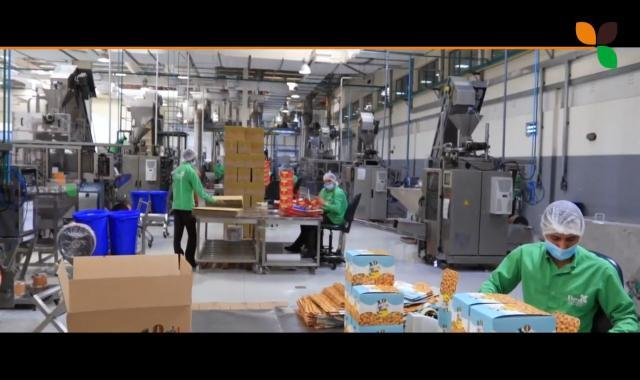Hairnet: (540, 196, 583, 241), (319, 169, 342, 182), (180, 148, 199, 163)
Mask: (540, 241, 582, 262), (323, 186, 339, 191)
No_Apron: (518, 244, 600, 333)
No_Glove: (212, 194, 225, 206)
